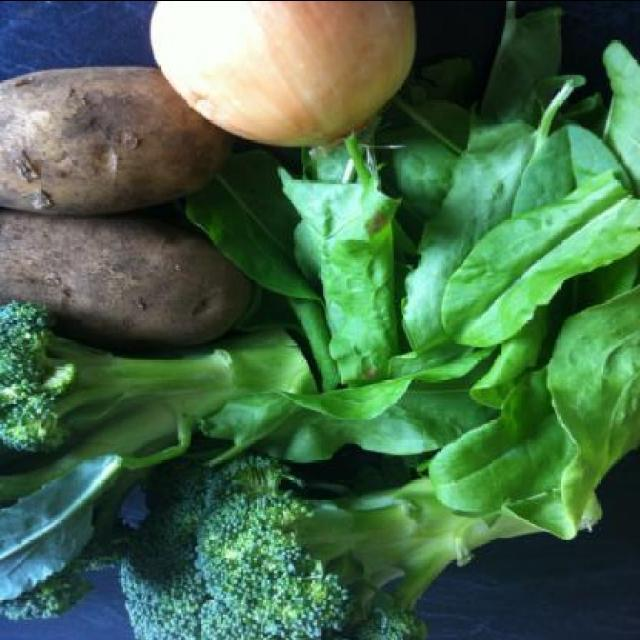Broccoli: (0, 297, 322, 620), (113, 448, 608, 640)
